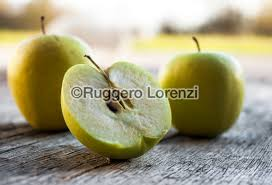apple: (14, 32, 94, 127)
damaged_apple: (62, 59, 176, 158)
